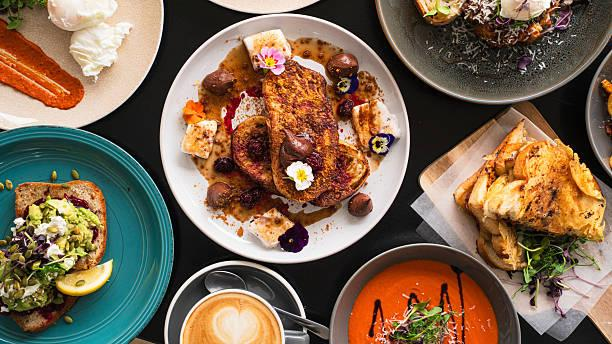Braised Crucian Carp: (161, 12, 403, 266), (1, 124, 174, 343), (428, 114, 610, 301), (331, 243, 515, 343)
